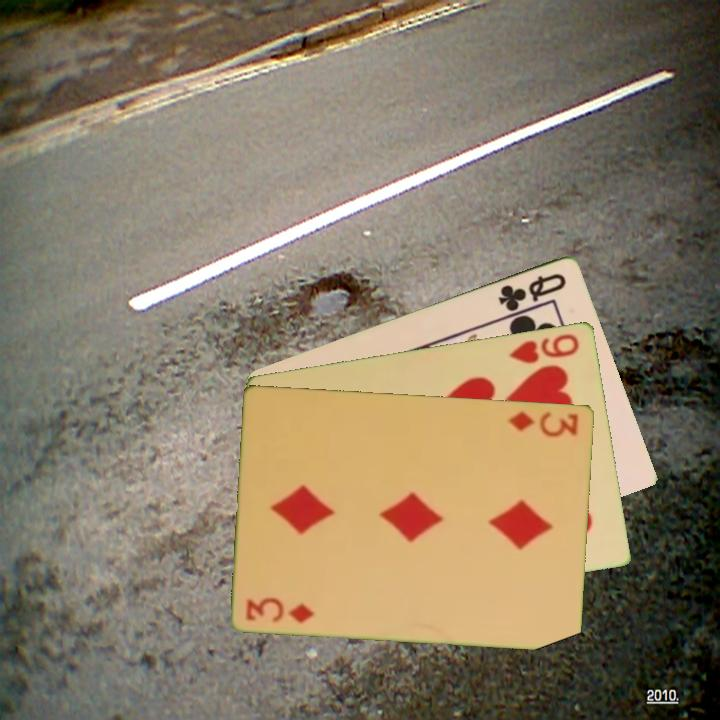3d: (505, 407, 581, 440), (242, 594, 318, 625)
9h: (505, 330, 582, 366)
Qc: (494, 269, 570, 314)
